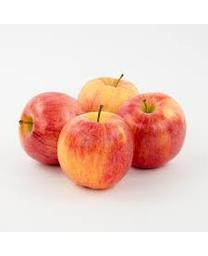apple: (56, 104, 133, 189), (115, 91, 186, 169), (18, 92, 84, 167), (76, 73, 140, 113)
